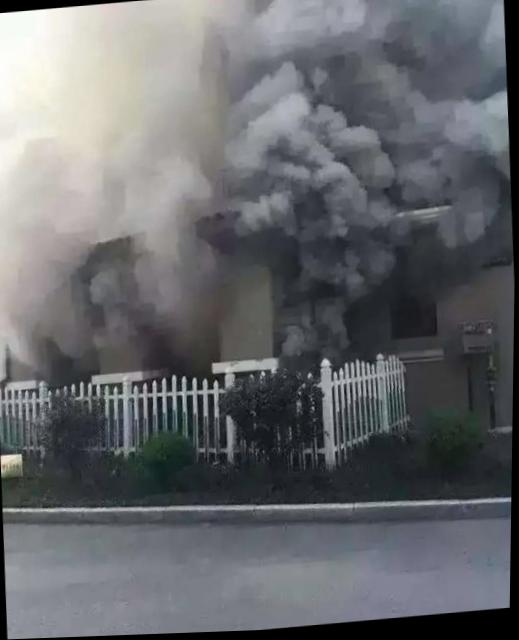smoke: (224, 0, 517, 287), (58, 0, 232, 228), (80, 218, 218, 368), (0, 228, 83, 376), (272, 275, 383, 364), (0, 124, 63, 231)
